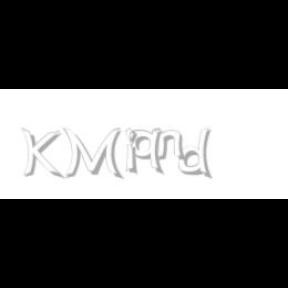K: (21, 128, 61, 180)
M: (62, 128, 122, 180)
d: (179, 128, 216, 180)
i: (125, 128, 141, 176)
n: (154, 128, 188, 162)
q: (129, 128, 165, 176)
